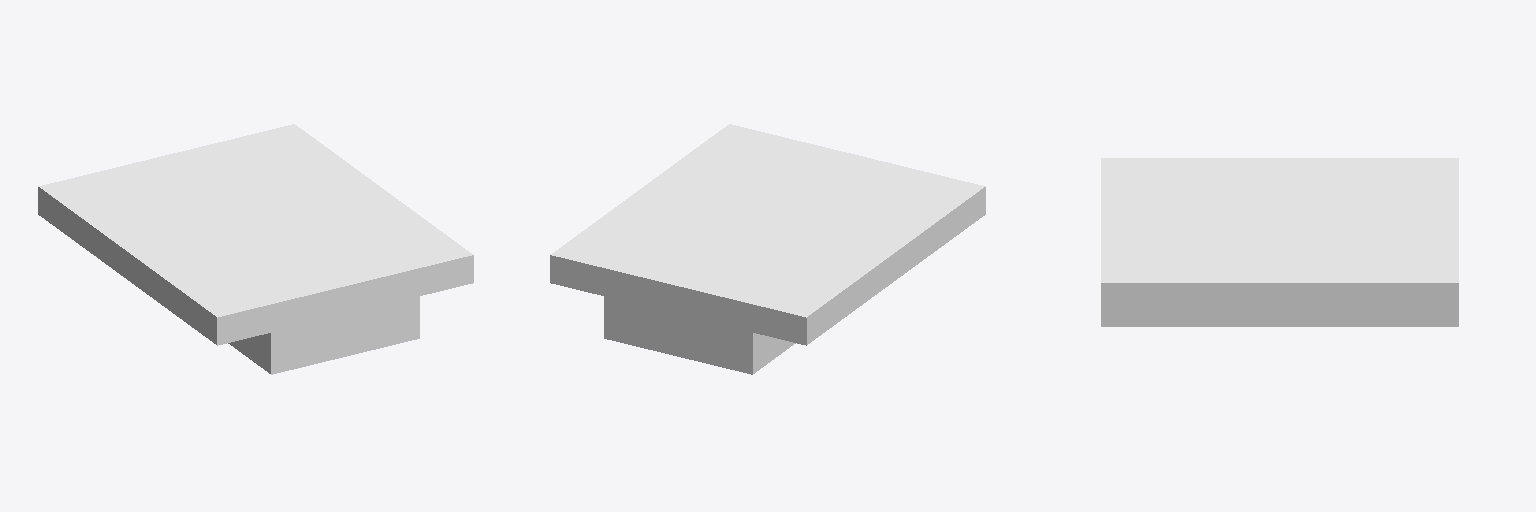
File: RussTankDrive.obj
The picture shows the model from 3 angles: view 1: azimuth 30°, elevation 25°; view 2: azimuth 150°, elevation 25°; view 3: azimuth 270°, elevation 25°; orthographic projection.
Bounding box in the file's own units: 19 × 5 × 23.